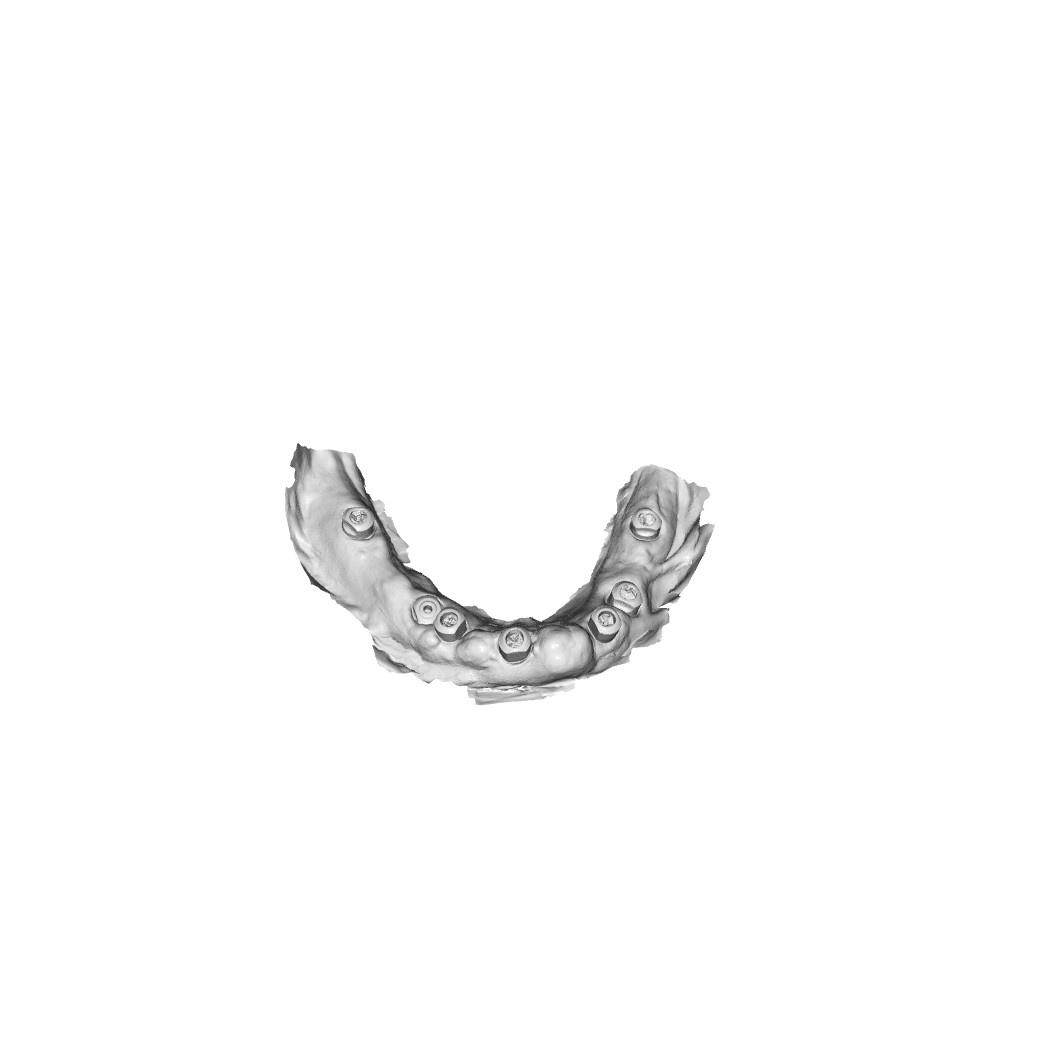implant: (607, 580, 644, 618), (587, 604, 622, 644), (497, 626, 532, 664), (341, 505, 375, 542), (628, 507, 663, 542), (433, 607, 468, 642), (410, 594, 443, 626)
